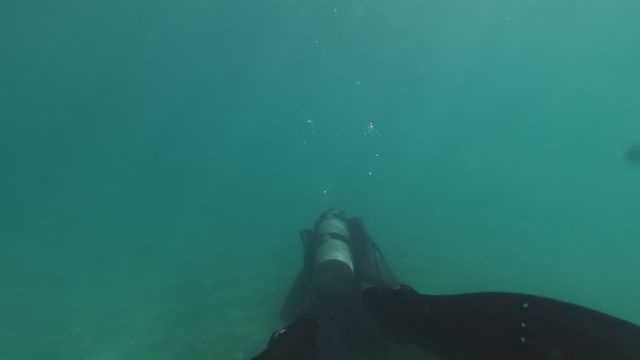Diver: (243, 171, 630, 354)
